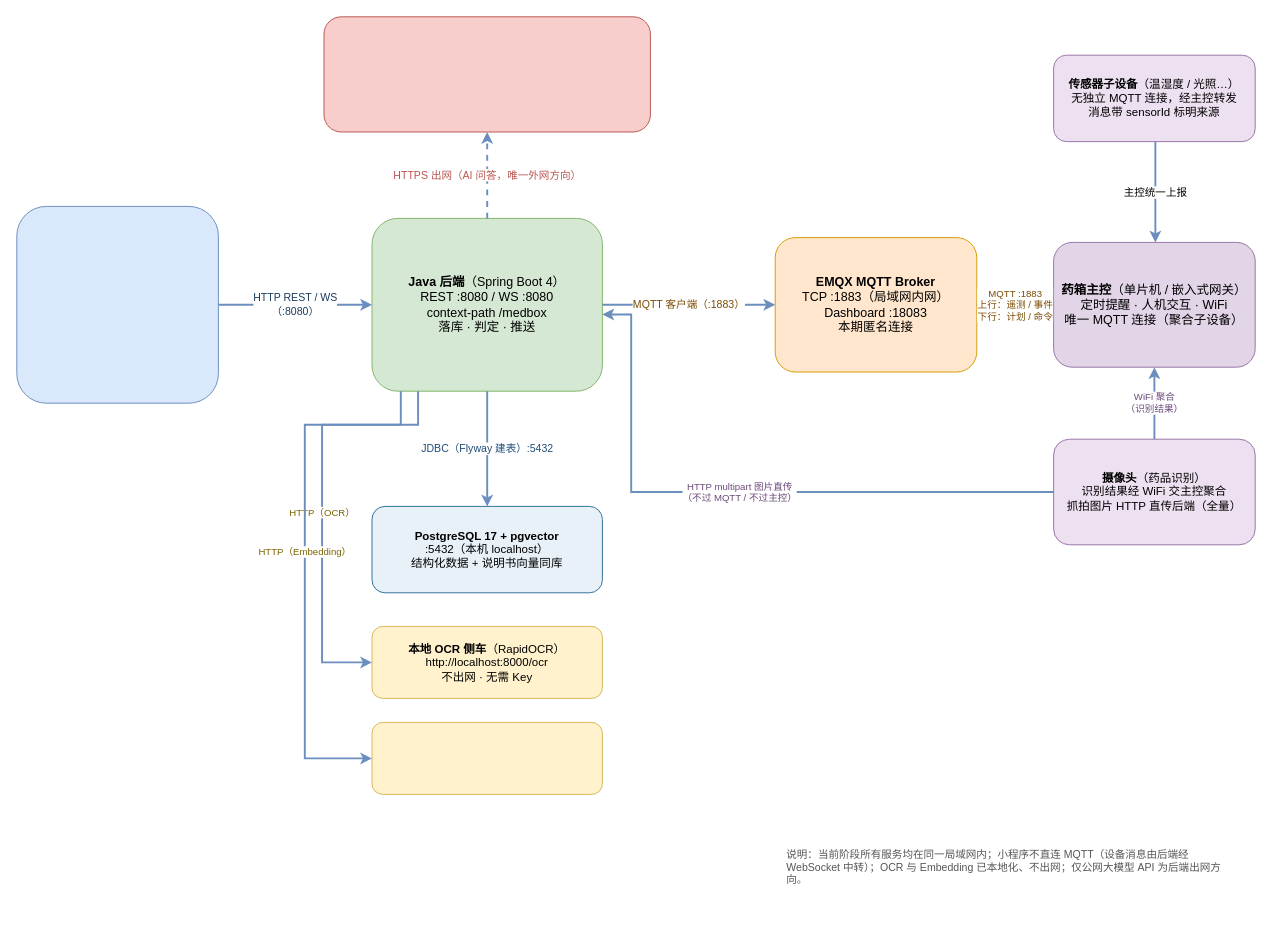
Image size: 1272x946. Some labels were removed from this diagram. Each missing label, with the centre of its shape:
"uni-app 小程序端 老人本人端（近场本地） 子女 / 监护人端（远程监护） 社区护理人员端（机构监护） 家庭医生端（专业端）" belongs at point (117, 304).
"公网大模型 API （AI 问答 / Chat） HTTPS 出网 · 需监护人配置 API Key （唯一必须写死的外网地址）" belongs at point (486, 74).
"本地 Embedding （Ollama bge-m3） http://localhost:11434 不出网 · 无需 Key" belongs at point (486, 757).
